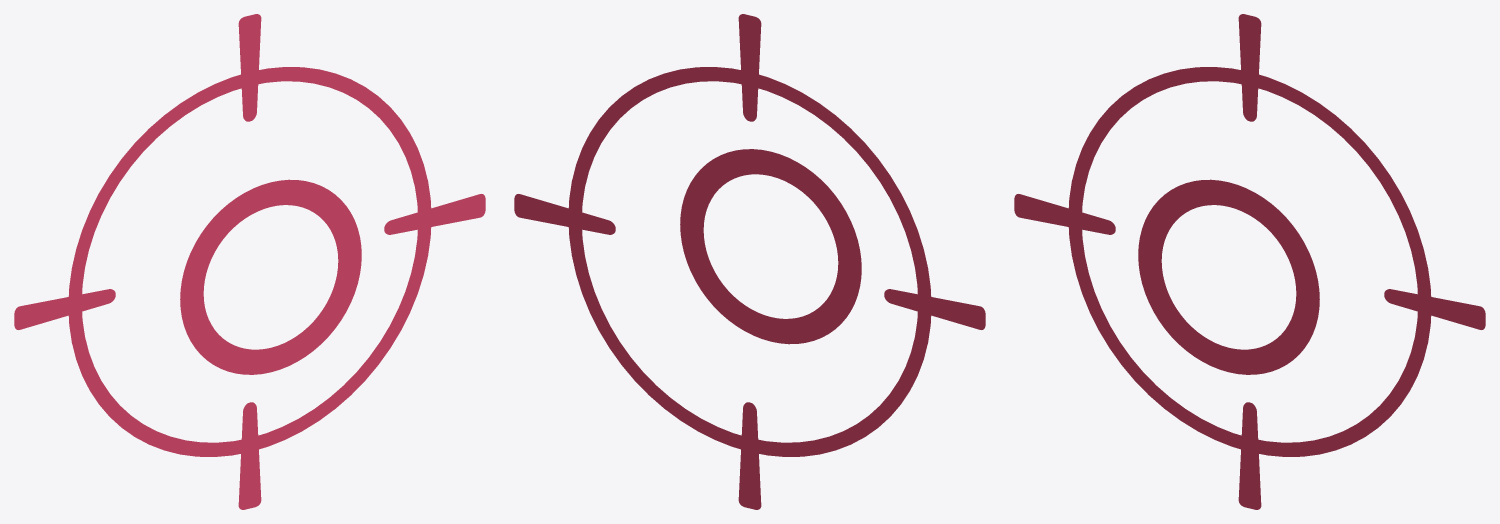
Rendered from serika.fbx.
3 views of the same model, side by side, from view 1: azimuth 30°, elevation 25°; view 2: azimuth 150°, elevation 25°; view 3: azimuth 330°, elevation 25° (orthographic).
Visible parts, largest first — view 1: 大, 小; view 2: 大, 小; view 3: 大, 小.
Boxes of the visible parts, x1,y1,x2,y2 form: 大: (14, 14, 485, 509); 小: (180, 179, 361, 374); 大: (514, 14, 985, 509); 小: (680, 149, 861, 344); 大: (1014, 14, 1485, 509); 小: (1138, 179, 1319, 374).
Bounding box in the file's own units: 259 × 259 × 20.01.
